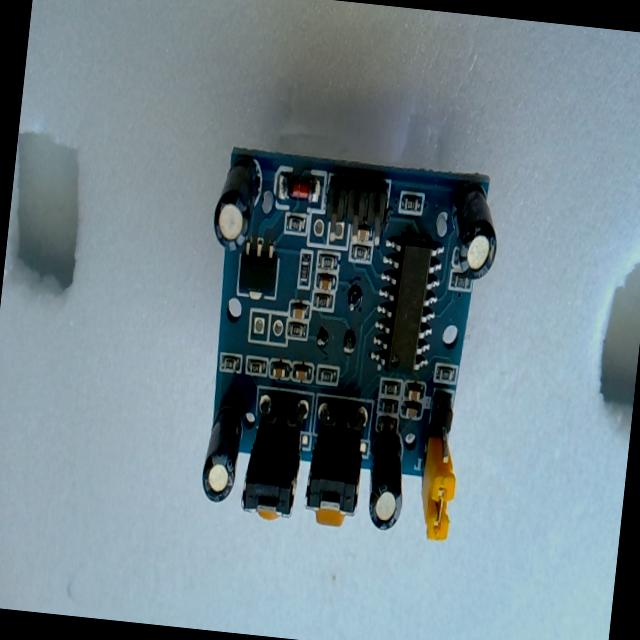Electrolytic capacitor: (445, 178, 504, 281), (210, 153, 264, 253), (362, 426, 409, 532), (199, 403, 246, 506)
IC: (368, 234, 442, 376)
pinheader: (322, 174, 389, 246)
